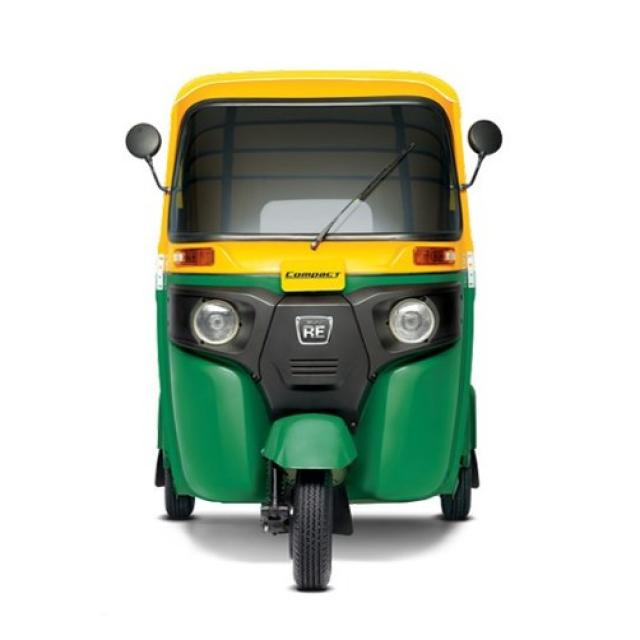autorickshaw: (155, 71, 479, 589)
